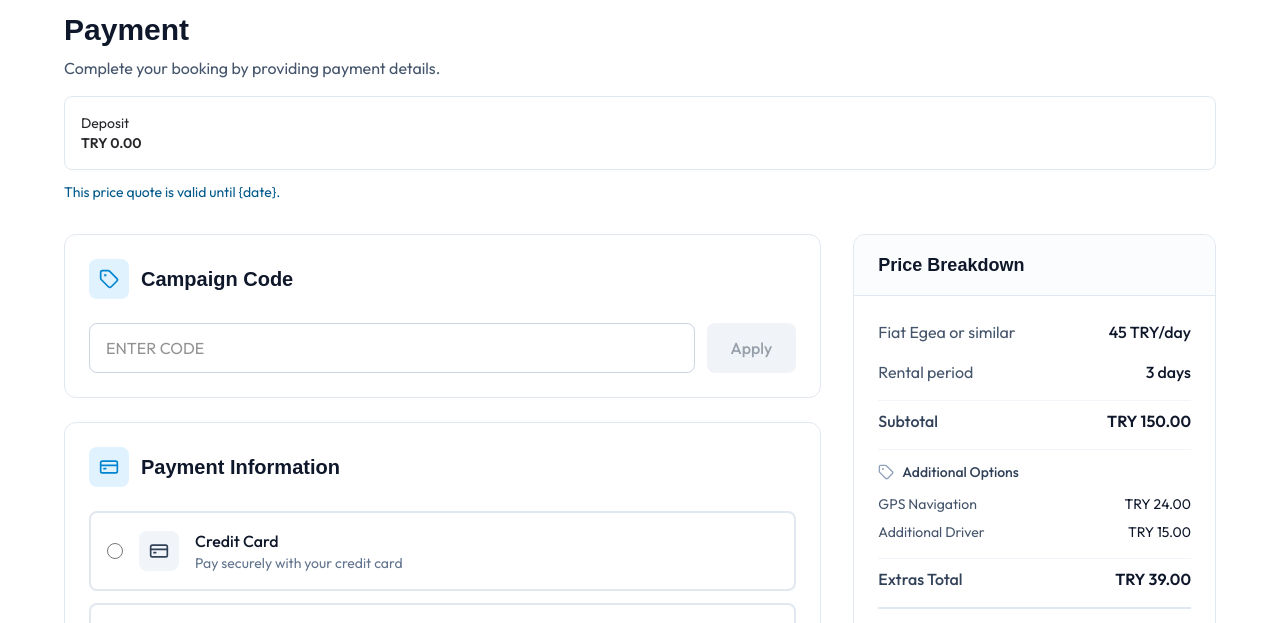
Test: BookingStep4Page › allows retrying a rejected exact vehicle campaign without claiming it was applied
Type "badcode" into the field with placeholder "Enter code" at {"x": 392, "y": 348}, box left=89, top=323, right=694, bottom=373
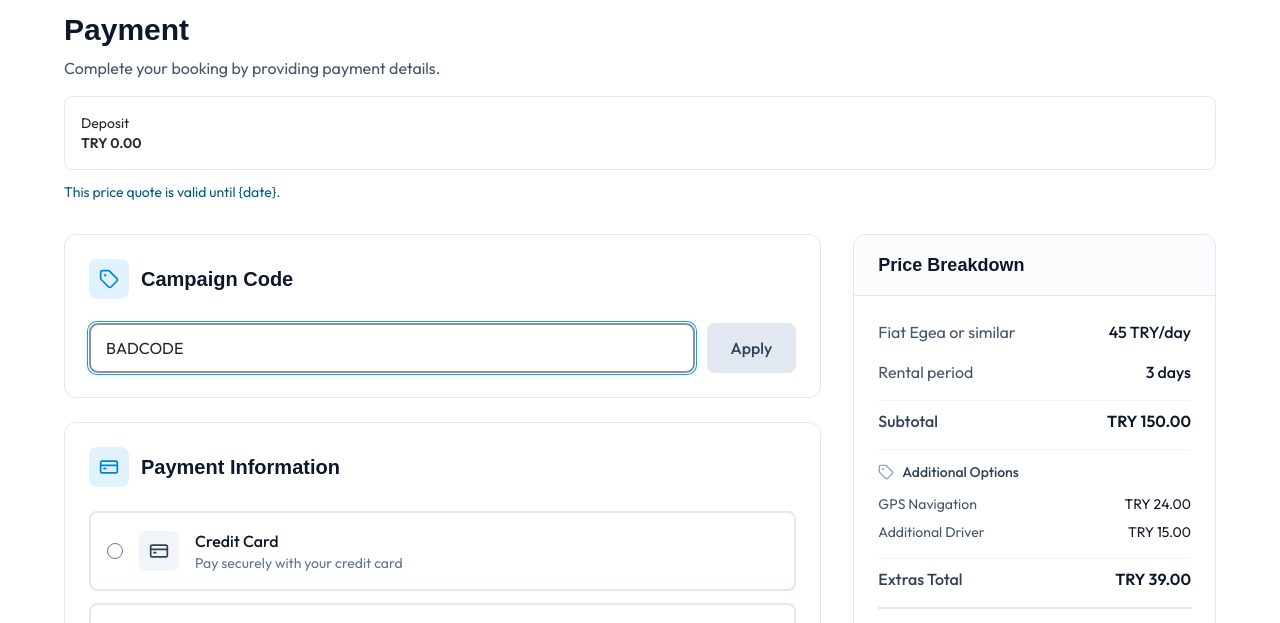
Click the button "Apply" at {"x": 751, "y": 348}, box left=706, top=323, right=796, bottom=373
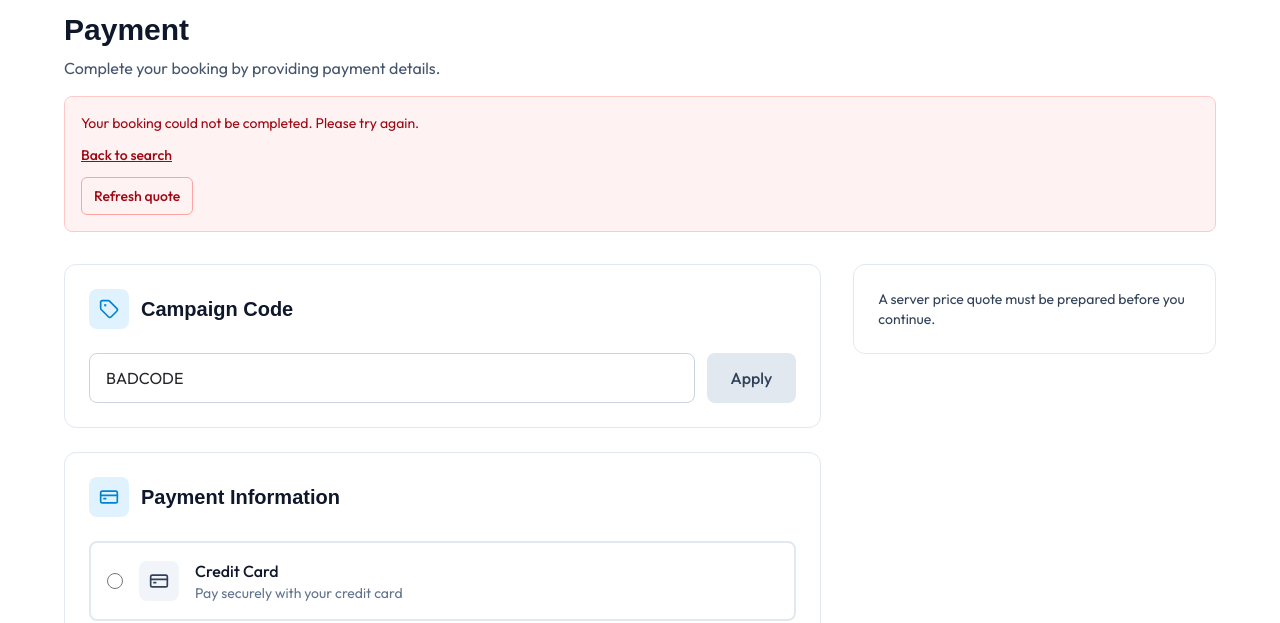
Expected: the button "Applied" is not shown
Expected: the button "Apply" is enabled, left=706, top=353, right=796, bottom=403
Replace the text in the field with placeholder "Enter code" with "summer15" at {"x": 392, "y": 378}, box left=89, top=353, right=694, bottom=403
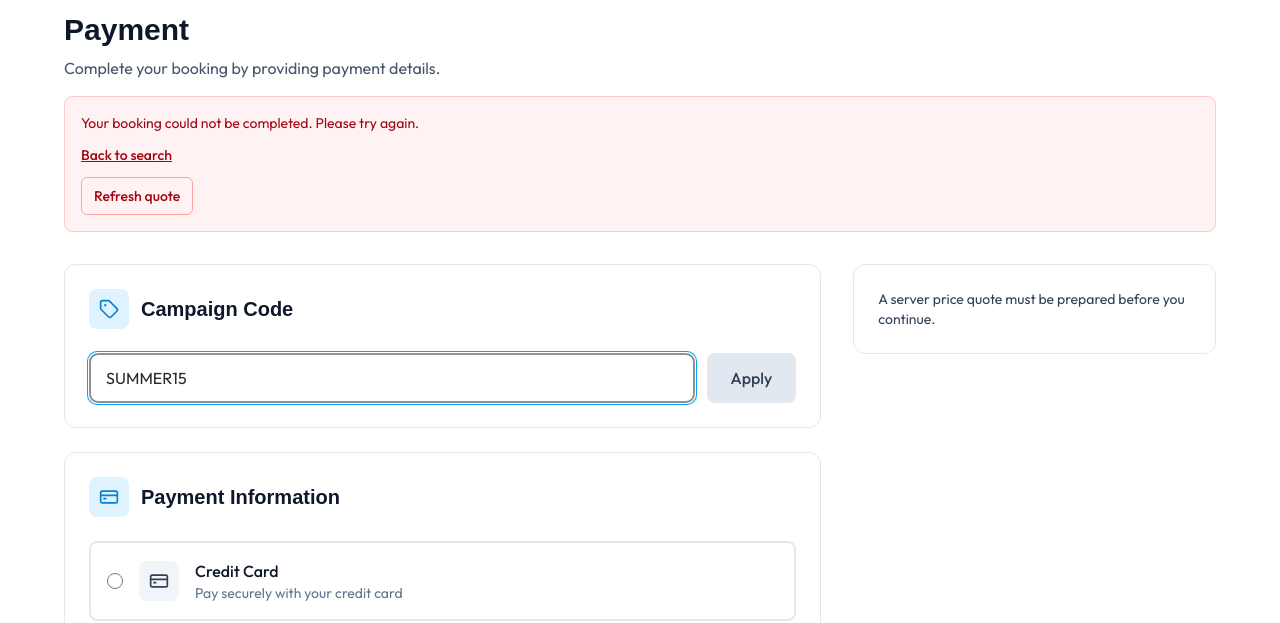
Click the button "Apply" at {"x": 751, "y": 378}, box left=706, top=353, right=796, bottom=403
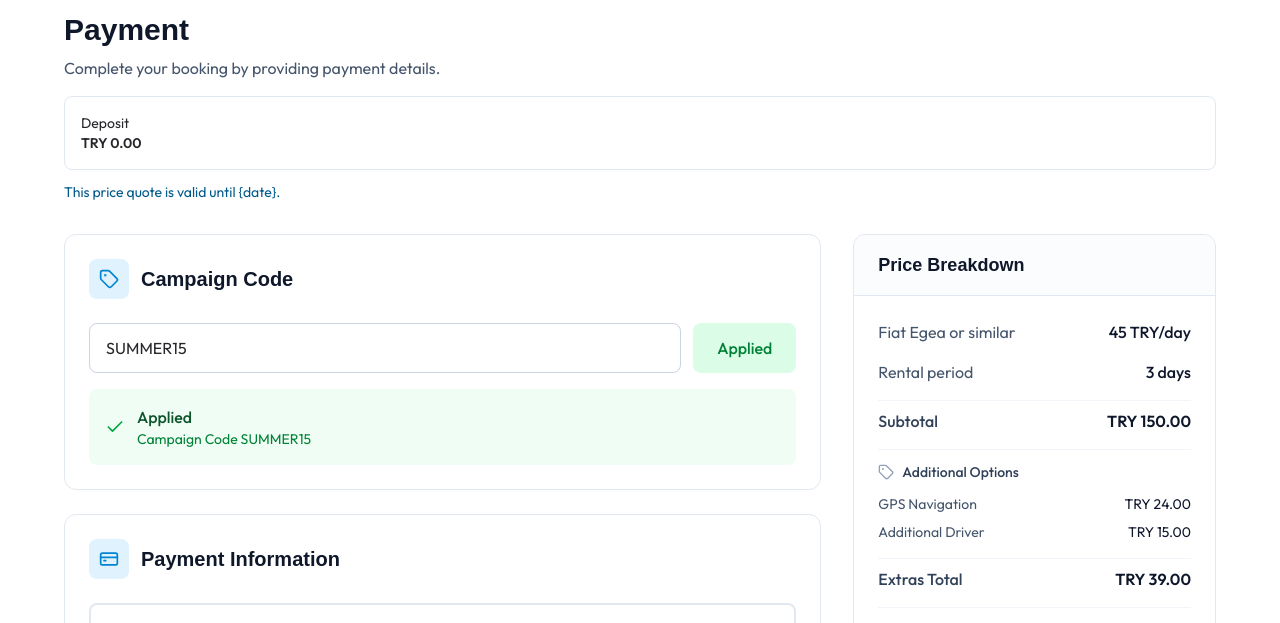
Expected: the button "Applied" is disabled, left=693, top=323, right=796, bottom=373
